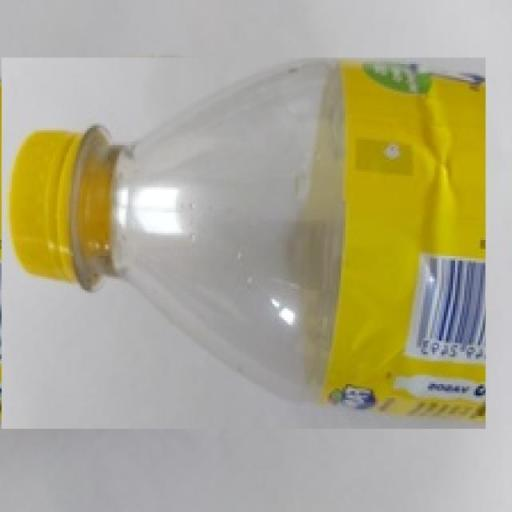plastic: (2, 58, 486, 428)
